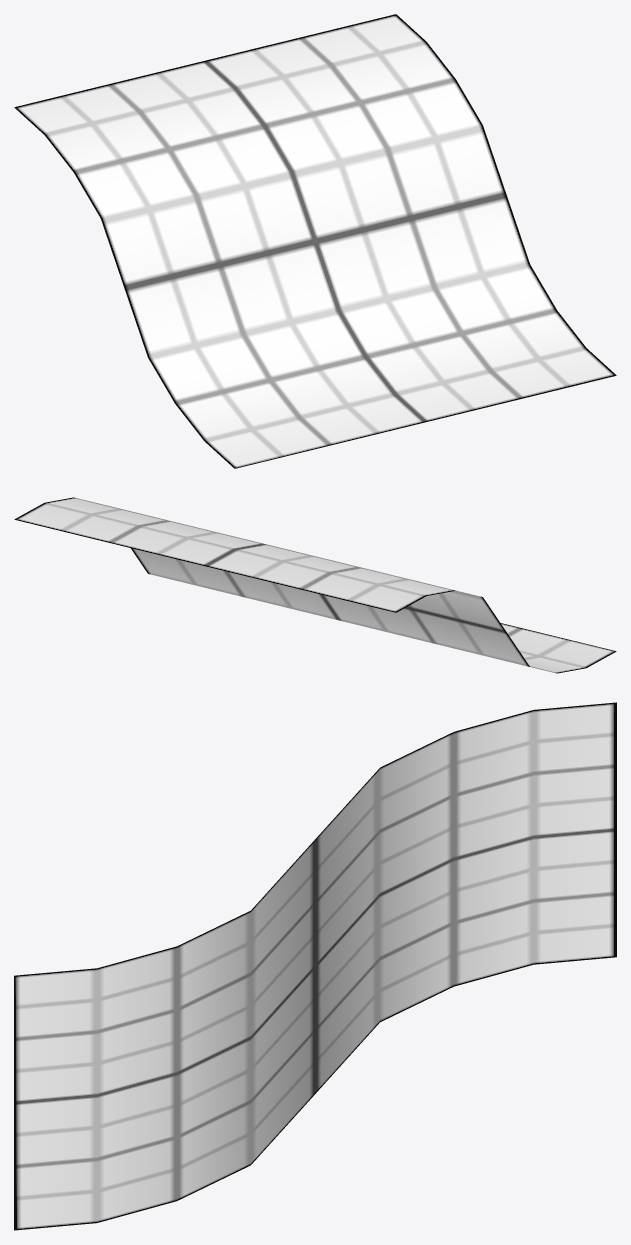
File: smooth-slope.fbx
3 renders of one model, top to bottom at view 1: azimuth 30°, elevation 25°; view 2: azimuth 150°, elevation 25°; view 3: azimuth 270°, elevation 25°, orthographic. The views are drawn at different scales.
Parts seen in each view (by area): view 1: Yplus; view 2: Yplus; view 3: Yplus.
Part boxes in pixels (x1,y1,x2,y2): Yplus: (14,14,616,468); Yplus: (14,497,616,673); Yplus: (14,702,616,1230).
Bounding box in the file's own units: 100 × 50 × 100.
